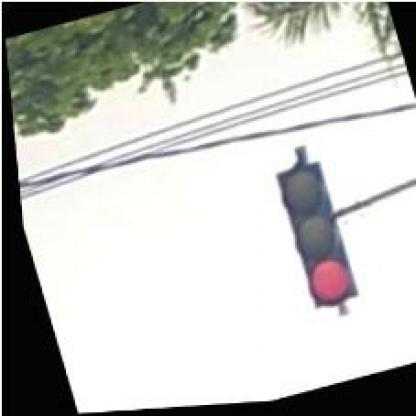red: (268, 165, 354, 315)
